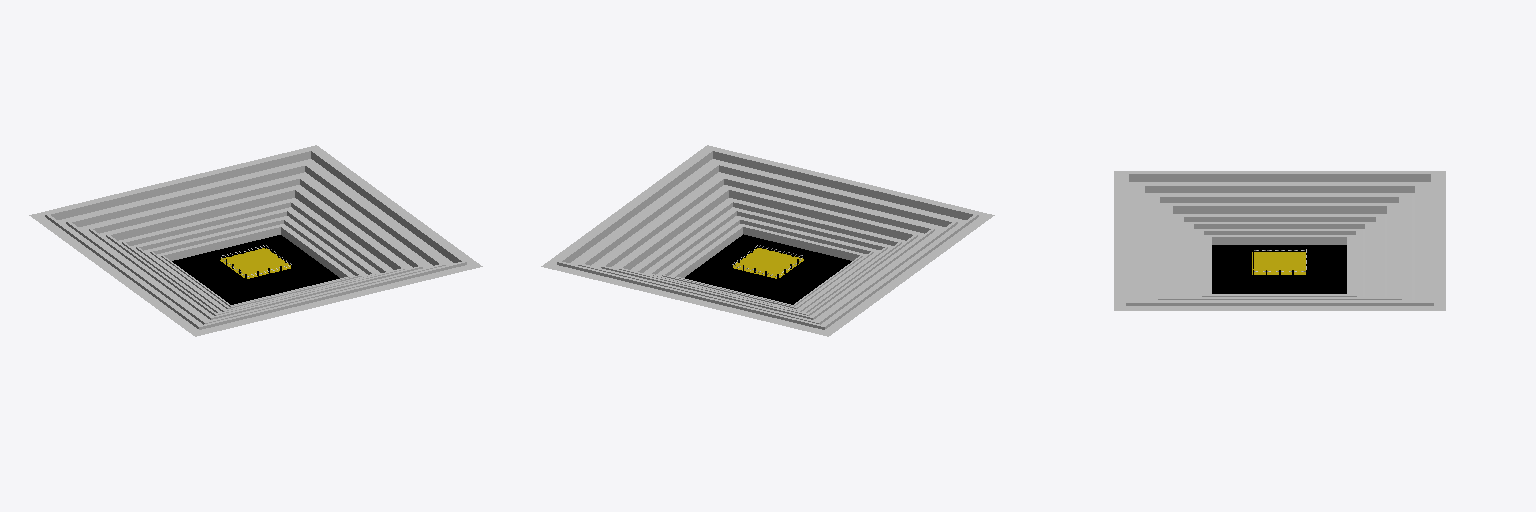
The model's file is arena.obj.
The picture shows the model from 3 angles: view 1: azimuth 30°, elevation 25°; view 2: azimuth 150°, elevation 25°; view 3: azimuth 270°, elevation 25°; orthographic projection.
Visible parts, largest first — view 1: Cylinder.003_Cylinder.005; view 2: Cylinder.003_Cylinder.005; view 3: Cylinder.003_Cylinder.005.
Boxes of the visible parts, box(x1,y1,x2,y2) form: Cylinder.003_Cylinder.005: box(29, 145, 482, 336); Cylinder.003_Cylinder.005: box(541, 145, 994, 336); Cylinder.003_Cylinder.005: box(1114, 171, 1445, 310).
Size of the model in its own units: 227 by 26.9 by 227.